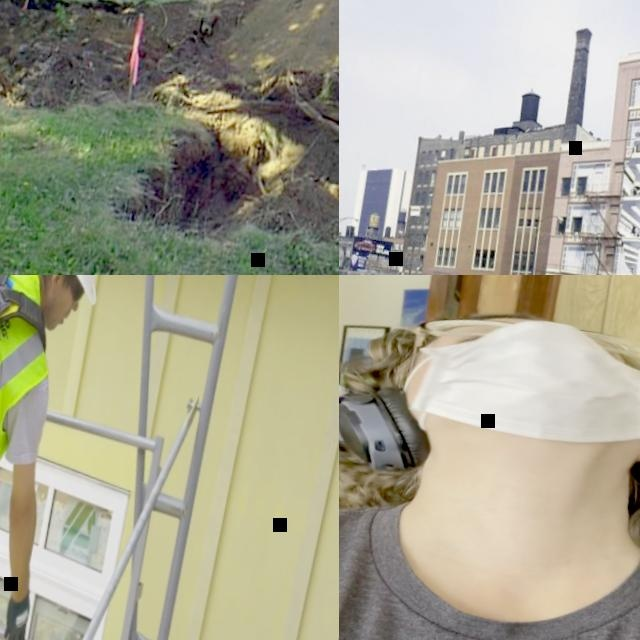Hardhat: (35, 275, 115, 303)
Mask: (389, 302, 640, 457)
NO-Hardhat: (339, 296, 437, 398)
NO-Mask: (46, 292, 70, 334)
NO-Safety Vest: (339, 464, 640, 640), (0, 275, 67, 547)
Person: (339, 275, 640, 640), (0, 275, 115, 640)
